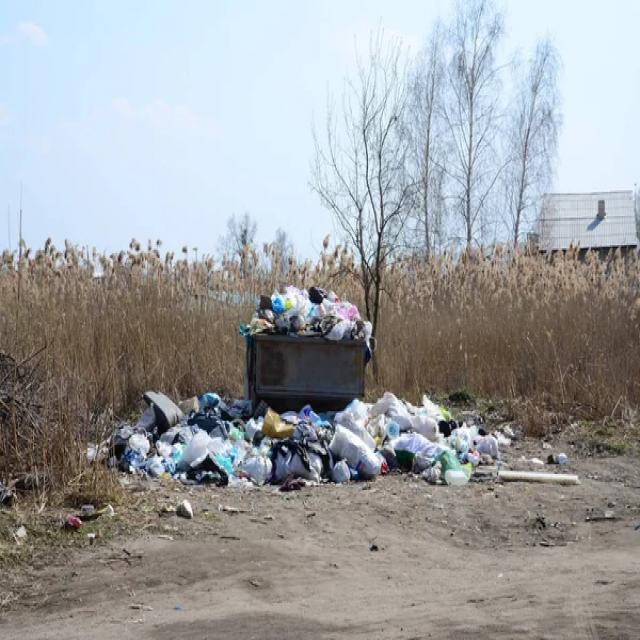garbage: (152, 371, 544, 525)
